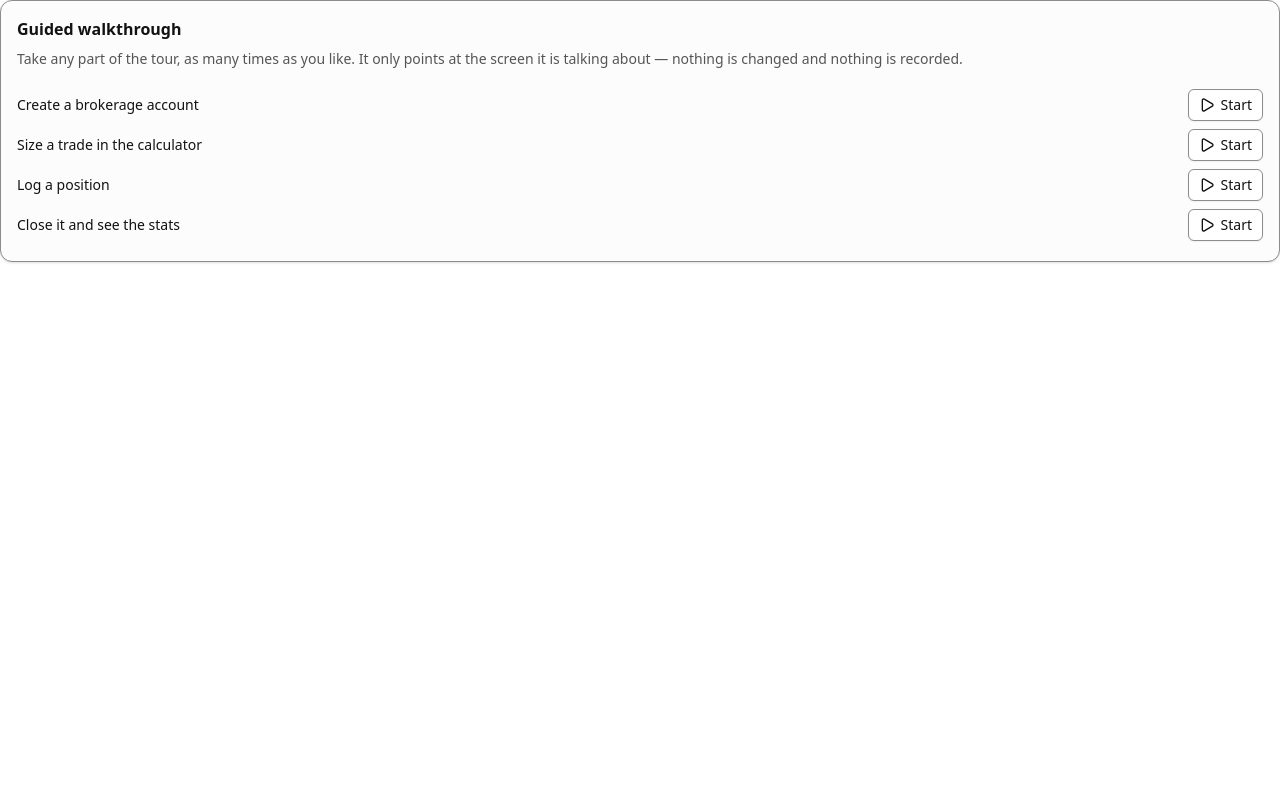
Test case: WalkthroughLauncher — the entry point that outlives the checklist › refuses the account set while the sample data is what would be replaced
Click the button "Start" in the row of "Create a brokerage account" at (1225, 105), box 1188,89 -> 1263,121
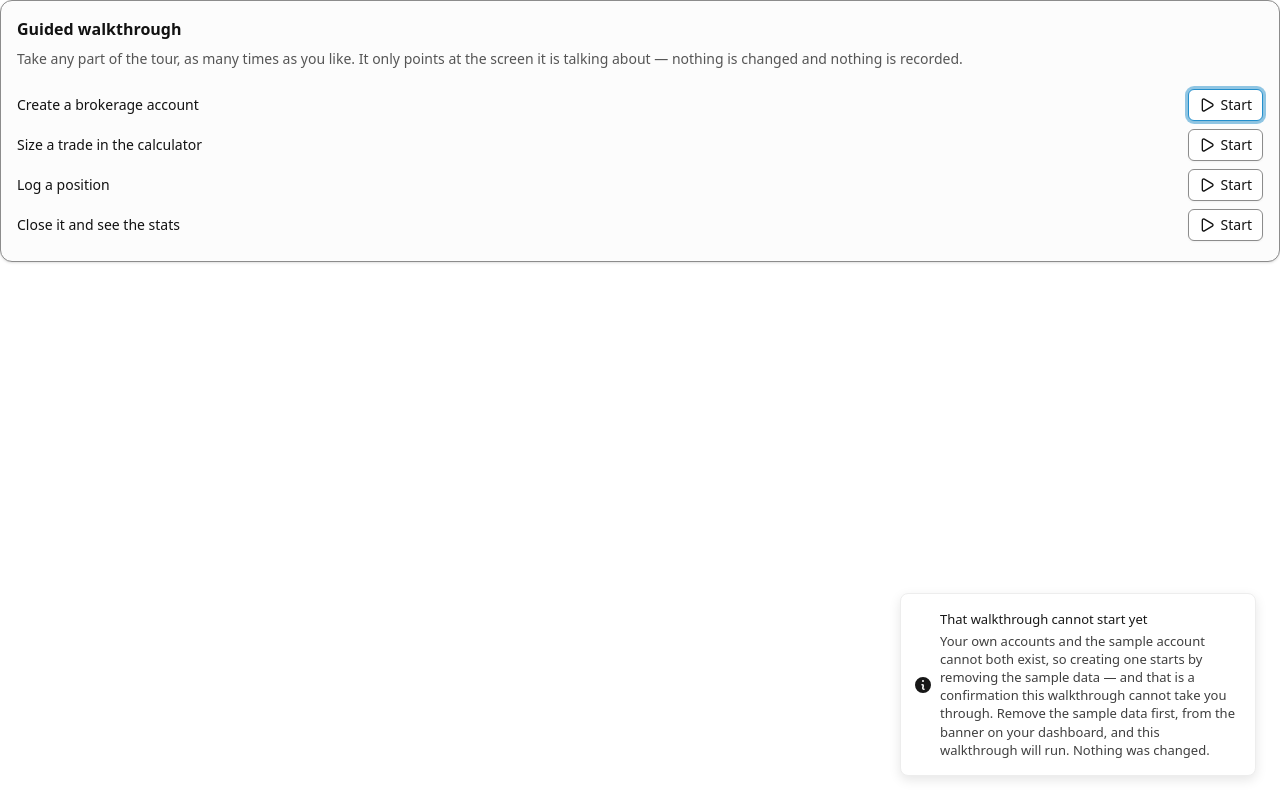
Expected: the text "That walkthrough cannot start yet" is shown, 940,610 -> 1147,628
Expected: the text "sample account cannot both exist" shows "Remove the sample data first", 940,632 -> 1235,759
